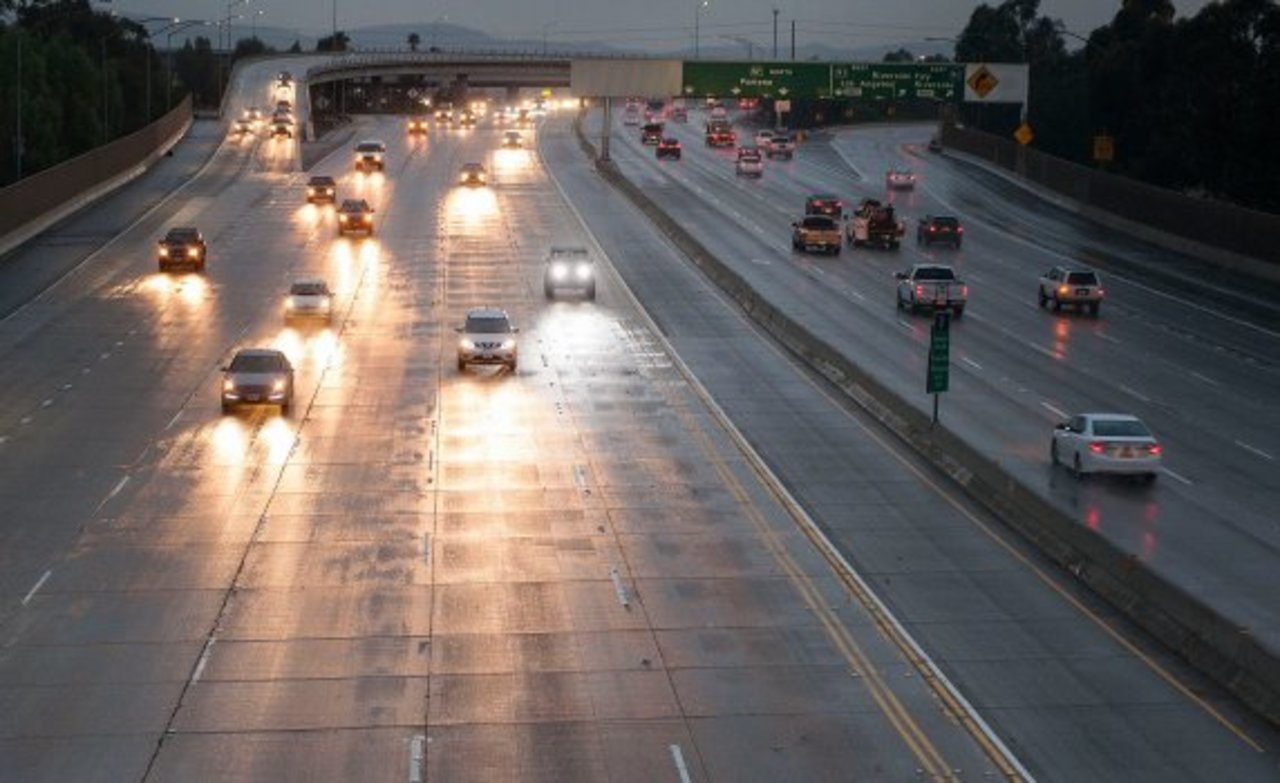car: (1050, 410, 1164, 481), (217, 348, 296, 409), (455, 307, 521, 372), (892, 263, 967, 315), (1036, 266, 1104, 315), (543, 244, 597, 303), (153, 226, 209, 273), (283, 277, 332, 319), (789, 217, 843, 253), (917, 213, 963, 248), (335, 197, 375, 234), (805, 190, 842, 217), (349, 142, 384, 170), (301, 176, 335, 203), (458, 161, 488, 187), (887, 167, 915, 190), (655, 137, 683, 159), (267, 117, 294, 138), (765, 138, 794, 157), (734, 157, 762, 175), (500, 130, 524, 149), (405, 117, 430, 134), (640, 124, 661, 142), (751, 130, 770, 143)
truck: (850, 195, 907, 248), (704, 115, 738, 148)
